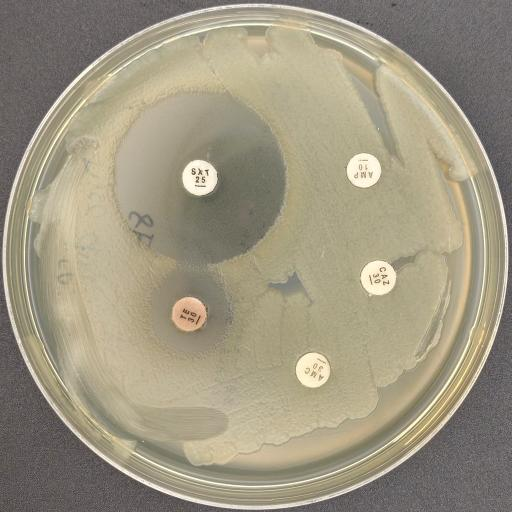disc: (181, 159, 217, 195), (360, 260, 396, 296), (347, 152, 381, 188), (172, 297, 208, 331), (295, 353, 331, 387)
